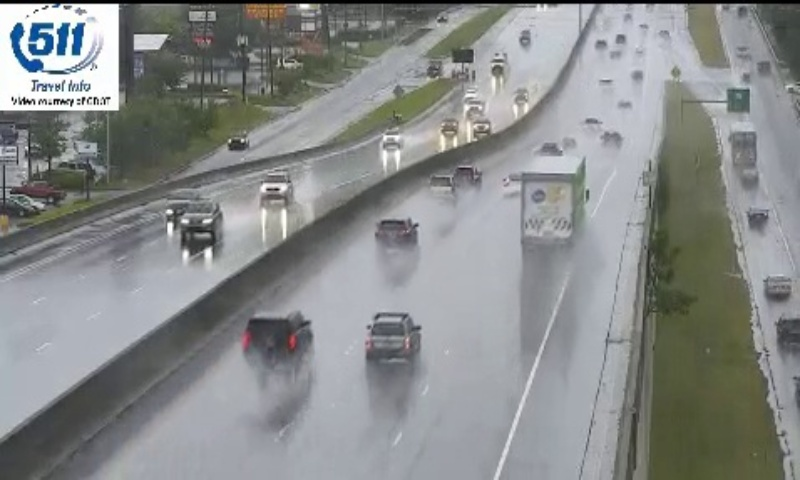car: (244, 312, 312, 363), (364, 314, 421, 365), (376, 217, 418, 251), (451, 163, 482, 190), (426, 175, 453, 201), (502, 171, 528, 196)
small-truck: (523, 156, 585, 245)
